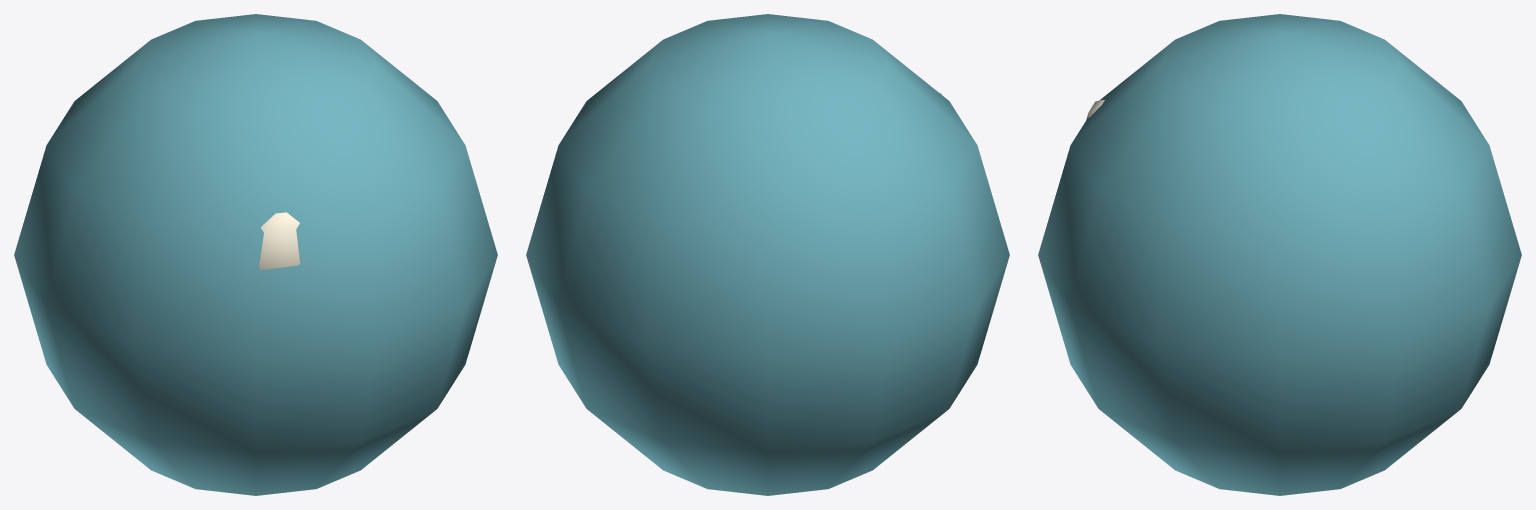
Rendered from co2_bubble.glb.
The picture shows the model from 3 angles, left to right: view 1: azimuth 30°, elevation 25°; view 2: azimuth 150°, elevation 25°; view 3: azimuth 270°, elevation 25°; orthographic projection.
Parts seen in each view (by area): view 1: co2_bubble_root; view 2: co2_bubble_root; view 3: co2_bubble_root.
Part boxes in pixels (bbox=[...]): co2_bubble_root: bbox=[14, 14, 497, 495]; co2_bubble_root: bbox=[526, 14, 1009, 495]; co2_bubble_root: bbox=[1038, 14, 1521, 495].
Bounding box in the file's own units: 0.8 × 0.8 × 0.8.
